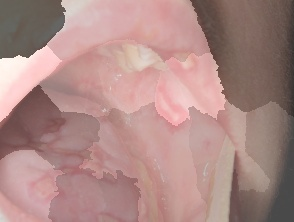SJS-TEN: (0, 0, 276, 222)
